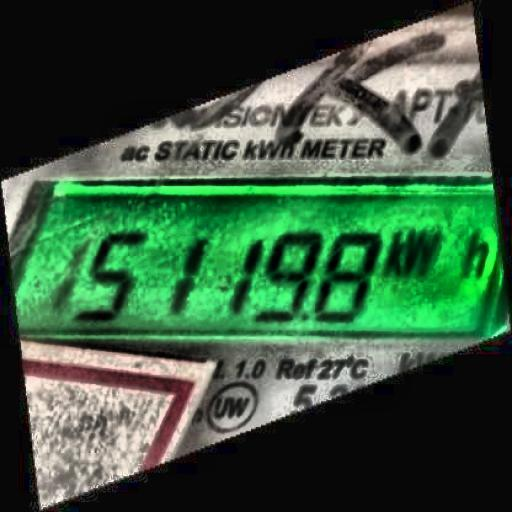DISPLAY_REGION: (5, 172, 511, 345)
SERIAL_REGION: (48, 229, 453, 322)
